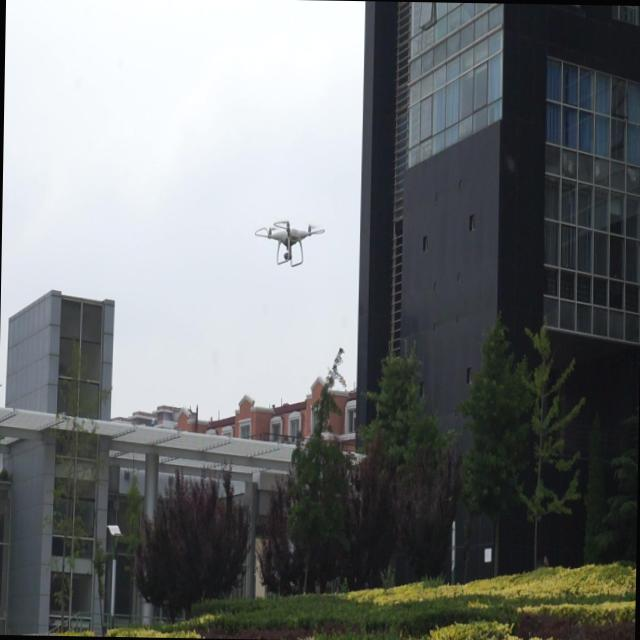drone: (252, 214, 326, 272)
